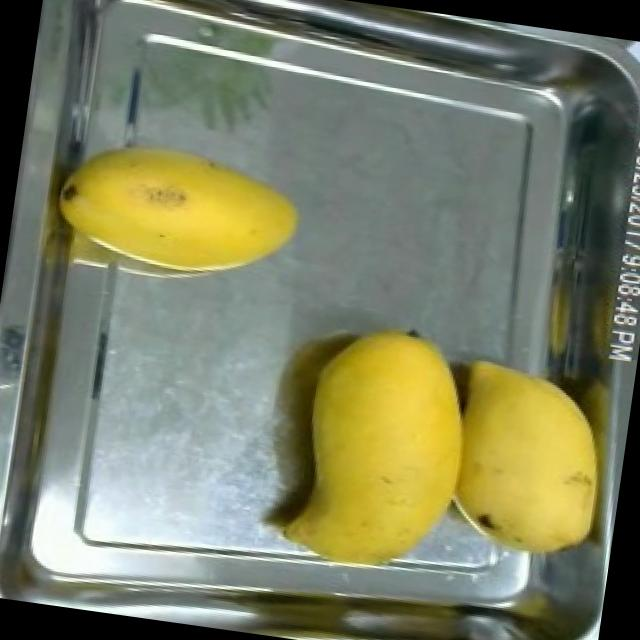fruit: (274, 302, 496, 594), (423, 343, 634, 592), (42, 120, 316, 298)
